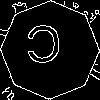C: (25, 25, 62, 72)
